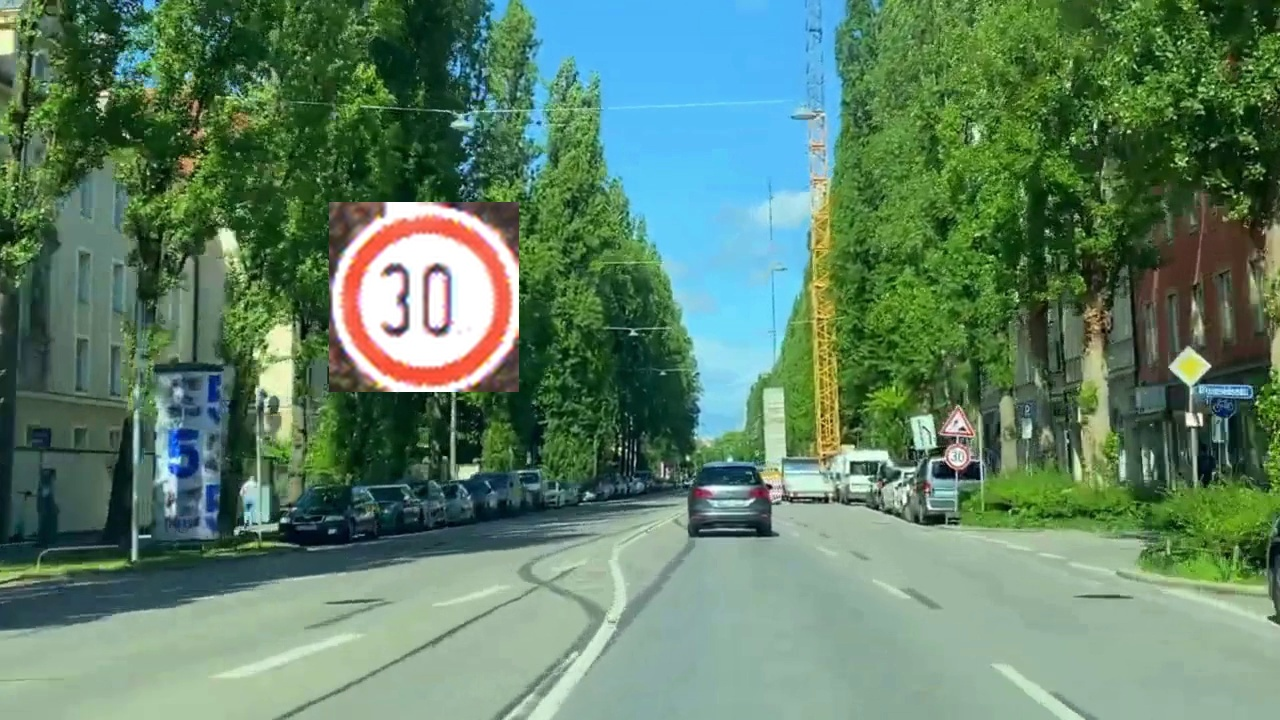Speed 30: (329, 202, 519, 392)
